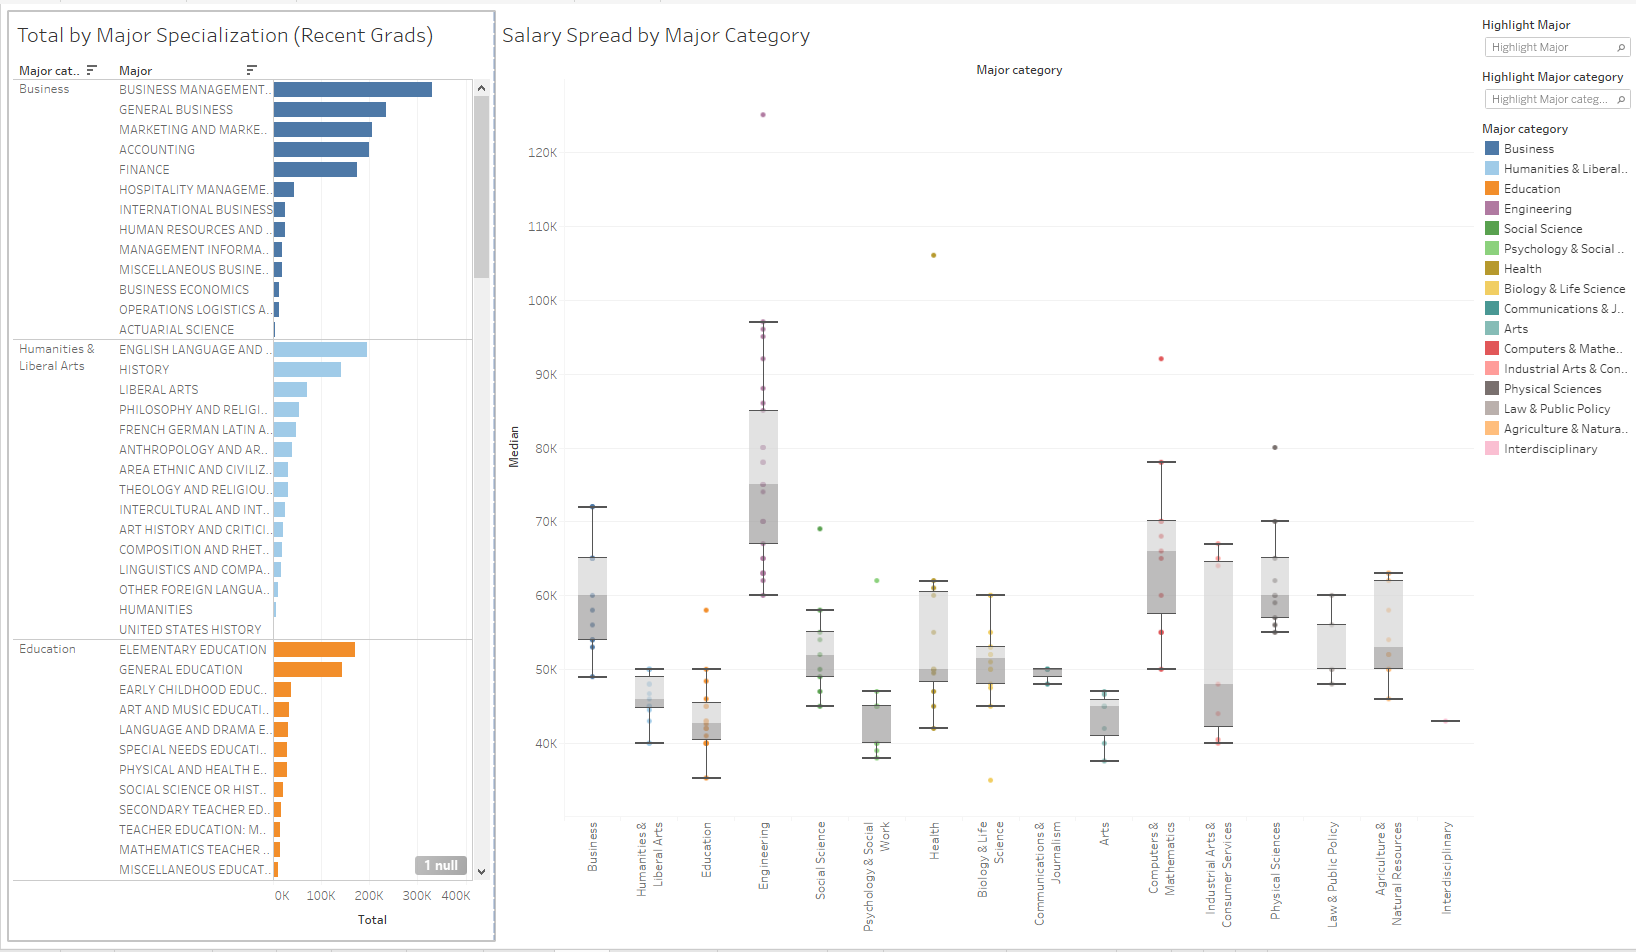

Layout of this report page (visuals, bound fields, positions):
{"tool":"tableau","page":{"name":"DB3","canvas":[1000,1000],"units":"permille","ordinal":2},"visuals":[{"type":"worksheet","title":"TotalGroupBar","mark":"Automatic","rows":["Major_category","Major"],"cols":["Total"],"box":[4.9,8.5,294.8,983.1]},{"type":"worksheet","title":"SalaryBox","mark":"Circle","rows":["Median"],"cols":["Major_category"],"box":[299.7,8.5,598.2,983.1]},{"type":"highlighter","title":"SalaryBox","param":"[federated.1q5ycf40tl7pp21941vf40f0e6t9].[none:Major:nk]","box":[897.9,8.5,97.3,55.1]},{"type":"highlighter","title":"SalaryBox","param":"[federated.1q5ycf40tl7pp21941vf40f0e6t9].[none:Major_category:nk]","box":[897.9,63.6,97.3,55.1]},{"type":"legend","title":"TotalGroupBar","param":"[federated.1q5ycf40tl7pp21941vf40f0e6t9].[none:Major_category:nk]","box":[897.9,118.6,97.3,366.5]}]}

Visuals, with their boxes on the dashboard's canvas, which has no fixed pixel size, in thousandths of its width and height (x1, y1, x2, y2). These are canvas units, not pixel positions in the 1636x952 screenshot, which may show the page scaled, cropped or inside an application window:
"TotalGroupBar" worksheet: x1=5, y1=8, x2=300, y2=992
"SalaryBox" worksheet (Circle marks): x1=300, y1=8, x2=898, y2=992
"SalaryBox" highlighter: x1=898, y1=8, x2=995, y2=64
"SalaryBox" highlighter: x1=898, y1=64, x2=995, y2=119
"TotalGroupBar" legend: x1=898, y1=119, x2=995, y2=485
